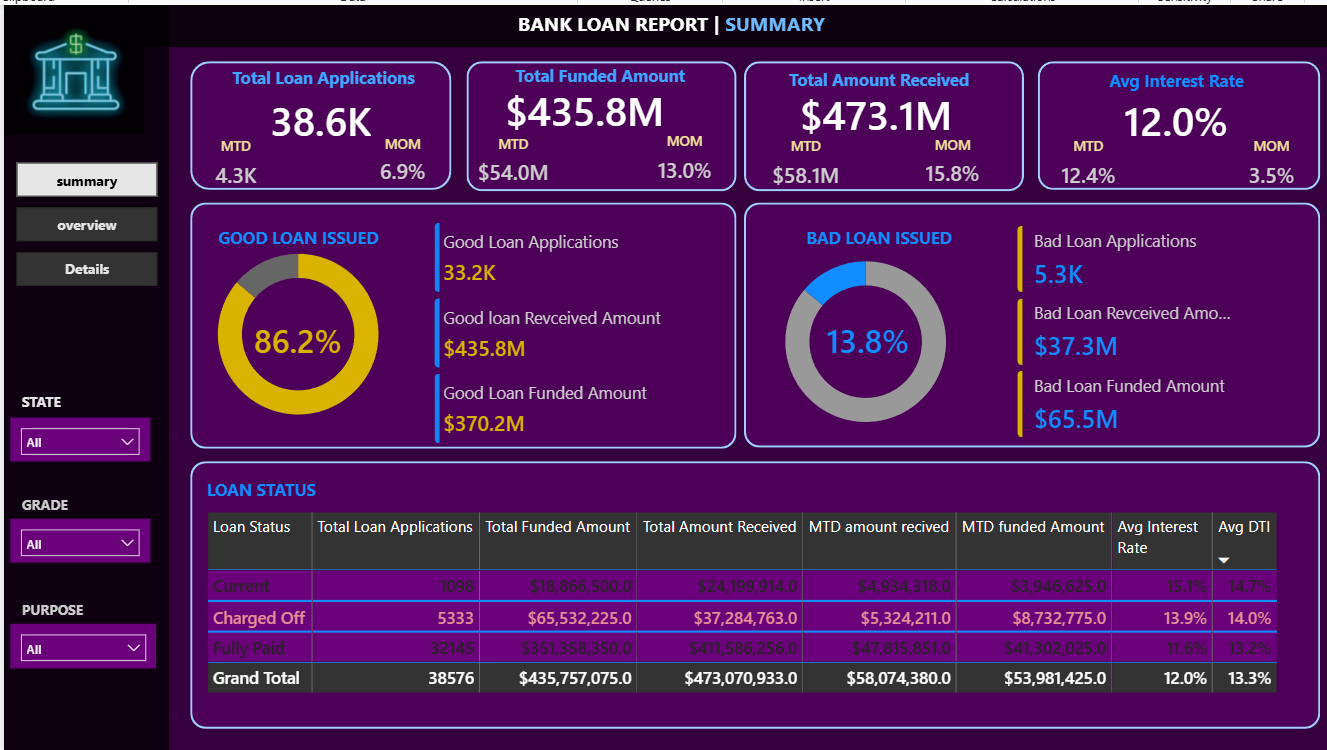

What the dashboard file says about the page in this screenshot:
{"tool":"powerbi","page":{"name":"summary","canvas":[1280,720],"ordinal":0},"visuals":[{"type":"shape","box":[179.8,190.6,527.2,237.7],"z":0},{"type":"shape","box":[179.8,54.3,252.1,124.3],"z":1000},{"type":"cardVisual","fields":{"Data":["public loan_finance.Total Loan Applications"]},"box":[216,85.7,181,48.3],"z":2000},{"type":"textbox","box":[0,0,159.3,720.2],"z":3000},{"type":"textbox","box":[135.1,0,1144.9,41],"z":4000},{"type":"textbox","box":[446.4,0,395.7,41],"z":5000},{"type":"textbox","box":[207.5,54.3,201.5,31.4],"z":6000},{"type":"cardVisual","title":"MTD","fields":{"Data":["public loan_finance.MTD Loan Applications"]},"box":[179.8,126.7,88.1,54.3],"z":7000},{"type":"cardVisual","title":"MOM","fields":{"Data":["public loan_finance.MOM LOan application"]},"box":[337.8,124.3,94.1,50.7],"z":8000},{"type":"shape","box":[714.2,54.3,270.2,125.5],"z":9000},{"type":"cardVisual","fields":{"Data":["public loan_finance.total amount recived"]},"box":[751.6,79.6,181,48.3],"z":10000},{"type":"textbox","box":[729.9,55.5,229.2,33.8],"z":11000},{"type":"cardVisual","title":"MTD","fields":{"Data":["public loan_finance.MTD amount recived"]},"box":[714.2,126.7,119.4,54.3],"z":12000},{"type":"cardVisual","title":"MOM","fields":{"Data":["public loan_finance.MOM amount recived"]},"box":[863.8,125.5,103.8,54.3],"z":13000},{"type":"shape","box":[446.4,54.3,260.6,125.5],"z":14000},{"type":"cardVisual","fields":{"Data":["public loan_finance.Total Funded Amount"]},"box":[470.5,76,181,48.3],"z":15000},{"type":"textbox","box":[457.2,51.9,236.5,37.4],"z":16000},{"type":"cardVisual","title":"MTD","fields":{"Data":["public loan_finance.MTD funded amount"]},"box":[431.9,124.3,119.4,54.3],"z":17000},{"type":"cardVisual","title":"MOM","fields":{"Data":["public loan_finance.MOM funded amount"]},"box":[606.8,121.9,100.1,54.3],"z":18000},{"type":"shape","box":[997.7,54.3,272.7,124.3],"z":19000},{"type":"cardVisual","fields":{"Data":["public loan_finance.avg intrest rat"]},"box":[1041.2,85.7,181,48.3],"z":20000},{"type":"textbox","box":[1025.5,56.7,212.3,36.2],"z":21000},{"type":"cardVisual","title":"MTD","fields":{"Data":["public loan_finance.MTD intrest rate"]},"box":[1002.6,126.7,88.1,54.3],"z":22000},{"type":"cardVisual","title":"MOM","fields":{"Data":["public loan_finance.MOM avg intrest rate"]},"box":[1176.3,126.7,94.1,54.3],"z":23000},{"type":"shape","box":[714.2,190.6,556.2,236.5],"z":24000},{"type":"donutChart","fields":{"Category":["public loan_finance.loan_status (groups)"],"Y":["public loan_finance.Total Loan Applications"]},"box":[159.3,216,249.7,203.9],"z":25000},{"type":"cardVisual","fields":{"Data":["public loan_finance.good loan%"]},"box":[207.5,298,152,48.3],"z":26000},{"type":"textbox","box":[159.3,208.7,249.7,32.6],"z":27000},{"type":"cardVisual","fields":{"Data":["public loan_finance.Good loan applications","public loan_finance.good loan received amount","public loan_finance.good loan funded amount"]},"box":[409,203.9,260.6,225],"z":28000},{"type":"donutChart","fields":{"Category":["public loan_finance.loan_status (groups)"],"Y":["public loan_finance.Total Loan Applications"]},"box":[707,223.2,249.7,203.9],"z":29000},{"type":"cardVisual","fields":{"Data":["public loan_finance.Bad loan%"]},"box":[757.6,298,152,48.3],"z":30000},{"type":"textbox","box":[729.9,208.7,229.2,32.6],"z":31000},{"type":"cardVisual","fields":{"Data":["public loan_finance.Bad loan applications","public loan_finance.Bad loan received amount","public loan_finance.Bad loan funded amount"]},"box":[965.2,200.3,249.7,231.6],"z":32000},{"type":"shape","box":[179.8,440.4,1090.6,258.2],"z":33000},{"type":"tableEx","fields":{"Values":["public loan_finance.loan_status","public loan_finance.Total Loan Applications","public loan_finance.Total Funded Amount","public loan_finance.total amount recived","public loan_finance.MTD amount recived","public loan_finance.MTD funded amount","public loan_finance.avg intrest rat","public loan_finance.Avg DTI"]},"box":[190.6,485,1066.5,200.3],"z":34000},{"type":"textbox","box":[190.6,451.2,241.3,33.8],"z":35000},{"type":"slicer","fields":{"Values":["public loan_finance.address_state"]},"box":[6,398.1,135.1,42.2],"z":36000},{"type":"textbox","box":[12.1,369.2,123.1,29],"z":37000},{"type":"slicer","fields":{"Values":["public loan_finance.grade"]},"box":[6,495.8,135.1,42.2],"z":38000},{"type":"textbox","box":[12.1,468.1,123.1,27.7],"z":39000},{"type":"slicer","fields":{"Values":["public loan_finance.purpose"]},"box":[6,597.2,141.2,43.4],"z":40000},{"type":"textbox","box":[12.1,569.4,123.1,27.7],"z":41000},{"type":"pageNavigator","box":[12.1,152,136.3,119.4],"z":42000},{"type":"image","box":[0,0,135.1,125.5],"z":43000}]}

Visuals, with their boxes on the page's 1280x720 design canvas (x1, y1, x2, y2). These are canvas units, not pixel positions in the 1327x750 screenshot, which may show the page scaled, cropped or inside an application window:
shape: [180,191,707,428]
shape: [180,54,432,179]
cardVisual - public loan_finance.Total Loan Applications: [216,86,397,134]
textbox: [0,0,159,720]
textbox: [135,0,1280,41]
textbox: [446,0,842,41]
textbox: [208,54,409,86]
"MTD" cardVisual: [180,127,268,181]
"MOM" cardVisual: [338,124,432,175]
shape: [714,54,984,180]
cardVisual - public loan_finance.total amount recived: [752,80,933,128]
textbox: [730,56,959,89]
"MTD" cardVisual: [714,127,834,181]
"MOM" cardVisual: [864,126,968,180]
shape: [446,54,707,180]
cardVisual - public loan_finance.Total Funded Amount: [470,76,652,124]
textbox: [457,52,694,89]
"MTD" cardVisual: [432,124,551,179]
"MOM" cardVisual: [607,122,707,176]
shape: [998,54,1270,179]
cardVisual - public loan_finance.avg intrest rat: [1041,86,1222,134]
textbox: [1026,57,1238,93]
"MTD" cardVisual: [1003,127,1091,181]
"MOM" cardVisual: [1176,127,1270,181]
shape: [714,191,1270,427]
donutChart - public loan_finance.loan_status (groups) x public loan_finance.Total Loan Applications: [159,216,409,420]
cardVisual - public loan_finance.good loan%: [208,298,360,346]
textbox: [159,209,409,241]
cardVisual - public loan_finance.Good loan applications x public loan_finance.good loan received amount: [409,204,670,429]
donutChart - public loan_finance.loan_status (groups) x public loan_finance.Total Loan Applications: [707,223,957,427]
cardVisual - public loan_finance.Bad loan%: [758,298,910,346]
textbox: [730,209,959,241]
cardVisual - public loan_finance.Bad loan applications x public loan_finance.Bad loan received amount: [965,200,1215,432]
shape: [180,440,1270,699]
tableEx - public loan_finance.loan_status x public loan_finance.Total Loan Applications: [191,485,1257,685]
textbox: [191,451,432,485]
slicer - public loan_finance.address_state: [6,398,141,440]
textbox: [12,369,135,398]
slicer - public loan_finance.grade: [6,496,141,538]
textbox: [12,468,135,496]
slicer - public loan_finance.purpose: [6,597,147,641]
textbox: [12,569,135,597]
pageNavigator: [12,152,148,271]
image: [0,0,135,126]
